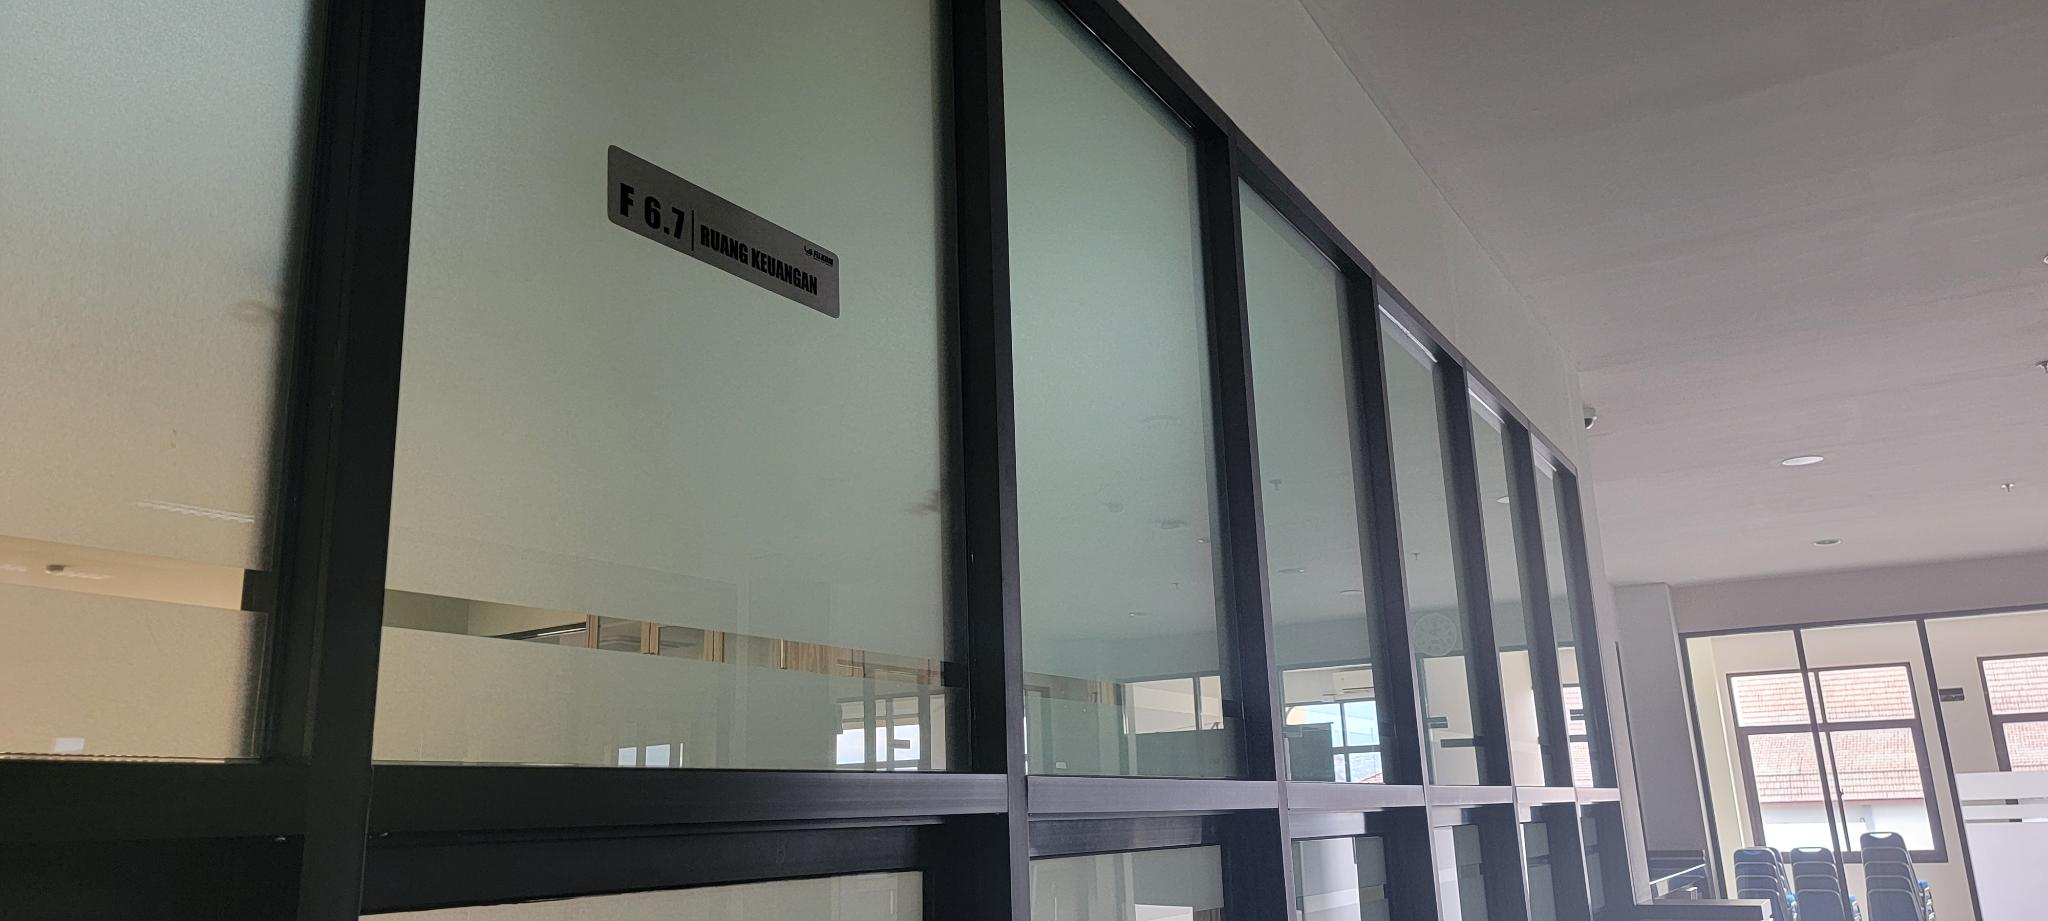plate: (606, 144, 841, 321)
